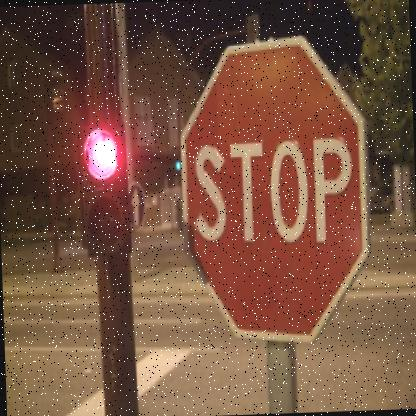stop: (172, 34, 376, 346)
trafficlight: (77, 117, 130, 246)
